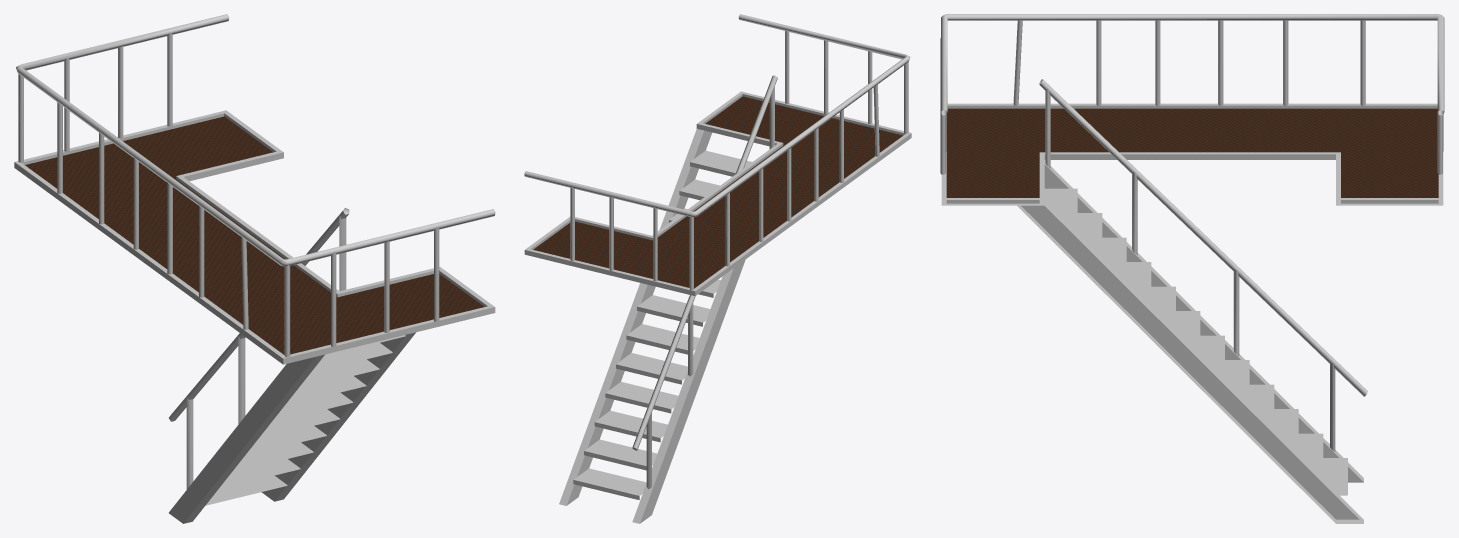
Rendered from Roof_addon1.fbx.
The picture shows the model from 3 angles, left to right: view 1: azimuth 30°, elevation 25°; view 2: azimuth 150°, elevation 25°; view 3: azimuth 270°, elevation 25°; orthographic projection. The views are drawn at different scales.
Parts seen in each view (by area): view 1: polySurface484; view 2: polySurface484; view 3: polySurface484.
Part boxes in pixels (bbox=[...]): polySurface484: bbox=[14, 14, 495, 523]; polySurface484: bbox=[524, 14, 911, 523]; polySurface484: bbox=[940, 14, 1444, 523].
Size of the model in its own units: 1.69 by 3.38 by 3.73.
